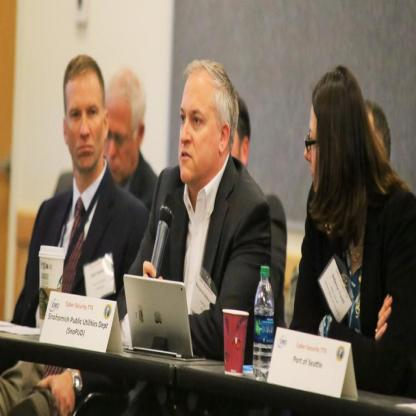board: (125, 275, 193, 357), (253, 266, 276, 377), (38, 246, 65, 337), (224, 307, 249, 378)
